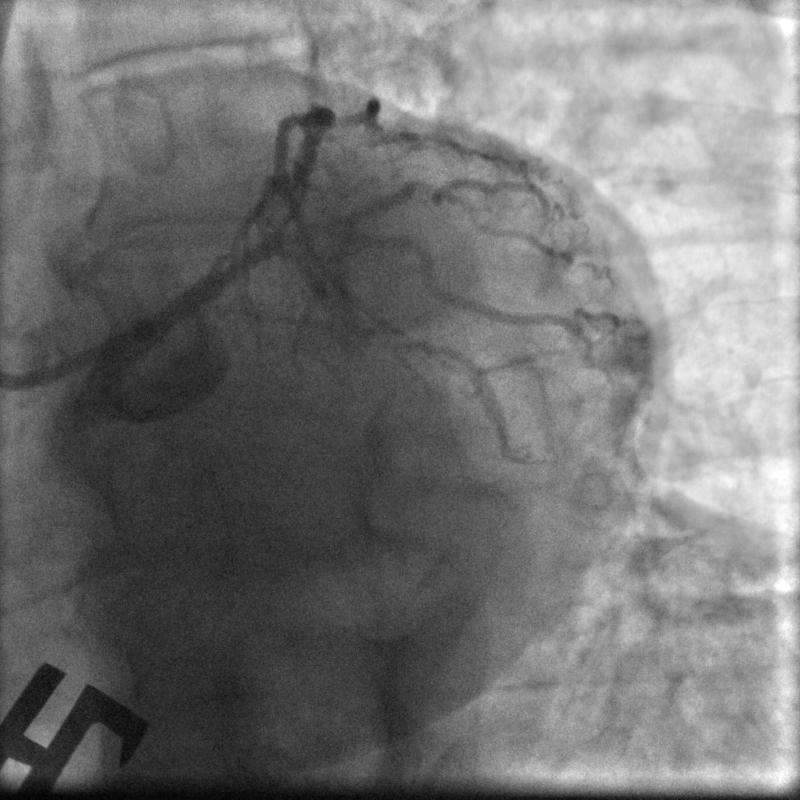Stenosis: (404, 174, 448, 205)
